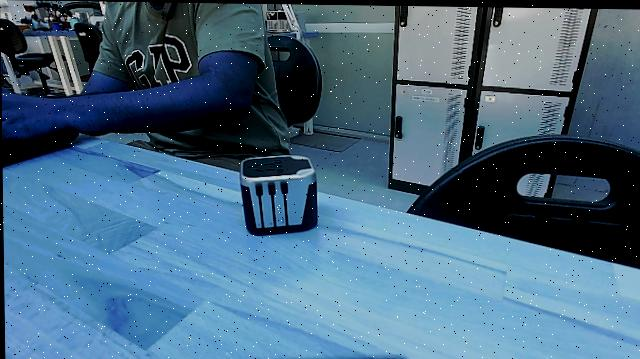adapter: (232, 151, 321, 242)
